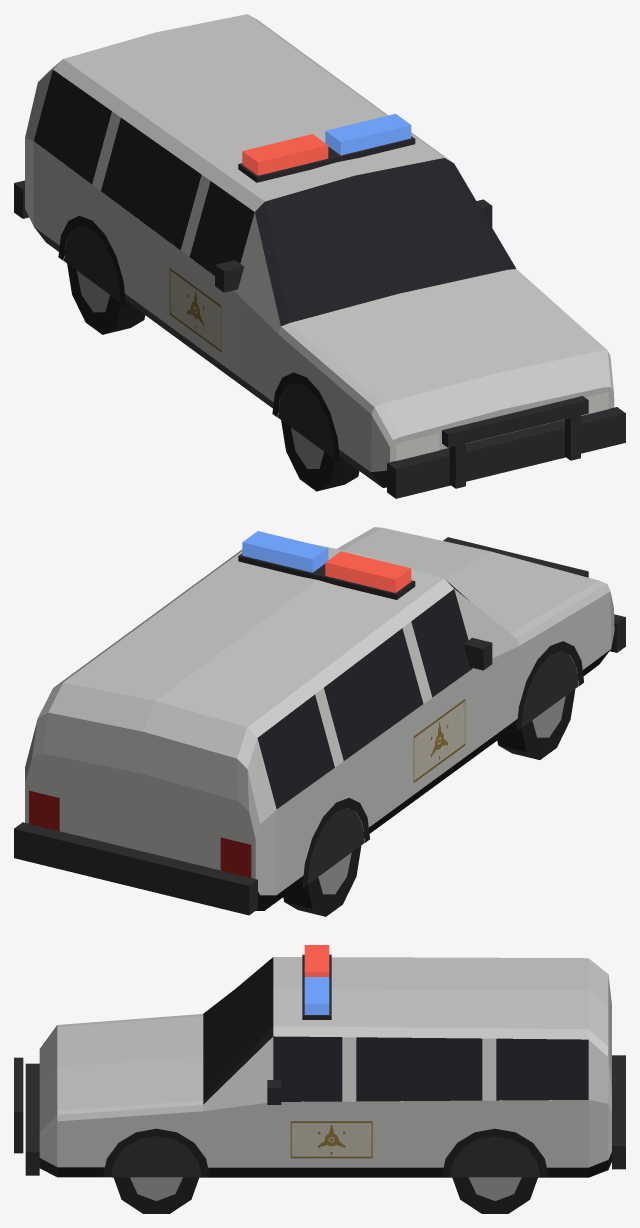
File: town_cruiser.gltf
The picture shows the model from 3 angles, top to bottom: view 1: azimuth 30°, elevation 25°; view 2: azimuth 150°, elevation 25°; view 3: azimuth 270°, elevation 25°; orthographic projection. The views are drawn at different scales.
Visible parts, largest first — view 1: TownCruiser_Body, TownCruiser_Glass, TownCruiser_Bumpers, TownCruiser_Arches, TownCruiser_LightBar_Glow, TownCruiser_PushBar, TownCruiser_Tyres, TownCruiser_Badge, TownCruiser_Lower, TownCruiser_Rims, TownCruiser_LightBar, TownCruiser_Headlights (+1 smaller); view 2: TownCruiser_Body, TownCruiser_Glass, TownCruiser_Bumpers, TownCruiser_Arches, TownCruiser_LightBar_Glow, TownCruiser_Tyres, TownCruiser_Badge, TownCruiser_Taillights, TownCruiser_Lower, TownCruiser_Rims, TownCruiser_LightBar, TownCruiser_PushBar (+1 smaller); view 3: TownCruiser_Body, TownCruiser_Glass, TownCruiser_Arches, TownCruiser_Lower, TownCruiser_Bumpers, TownCruiser_Tyres, TownCruiser_Badge, TownCruiser_Rims, TownCruiser_LightBar_Glow, TownCruiser_PushBar, TownCruiser_LightBar.
Boxes of the visible parts, bbox=[...] form: TownCruiser_Body: bbox=[25, 14, 614, 471]; TownCruiser_Glass: bbox=[34, 70, 516, 326]; TownCruiser_Bumpers: bbox=[14, 180, 625, 498]; TownCruiser_Arches: bbox=[58, 215, 340, 463]; TownCruiser_LightBar_Glow: bbox=[242, 113, 411, 175]; TownCruiser_PushBar: bbox=[442, 396, 588, 488]; TownCruiser_Tyres: bbox=[67, 263, 359, 491]; TownCruiser_Badge: bbox=[169, 268, 221, 351]; TownCruiser_Lower: bbox=[34, 227, 386, 487]; TownCruiser_Rims: bbox=[77, 271, 323, 468]; TownCruiser_LightBar: bbox=[238, 136, 415, 182]; TownCruiser_Headlights: bbox=[396, 392, 608, 460]; TownCruiser_Body: bbox=[25, 527, 614, 895]; TownCruiser_Glass: bbox=[257, 579, 472, 808]; TownCruiser_Bumpers: bbox=[14, 614, 625, 915]; TownCruiser_Arches: bbox=[302, 641, 583, 888]; TownCruiser_LightBar_Glow: bbox=[242, 531, 411, 592]; TownCruiser_Tyres: bbox=[283, 689, 575, 916]; TownCruiser_Badge: bbox=[413, 699, 465, 782]; TownCruiser_Taillights: bbox=[29, 790, 251, 877]; TownCruiser_Lower: bbox=[256, 649, 610, 910]; TownCruiser_Rims: bbox=[318, 696, 565, 894]; TownCruiser_LightBar: bbox=[238, 553, 415, 599]; TownCruiser_PushBar: bbox=[443, 537, 588, 577]; TownCruiser_Body: bbox=[39, 957, 611, 1167]; TownCruiser_Glass: bbox=[203, 957, 588, 1104]; TownCruiser_Arches: bbox=[103, 1128, 548, 1177]; TownCruiser_Lower: bbox=[39, 1152, 611, 1177]; TownCruiser_Bumpers: bbox=[25, 1055, 625, 1175]; TownCruiser_Tyres: bbox=[113, 1177, 537, 1213]; TownCruiser_Badge: bbox=[290, 1121, 372, 1158]; TownCruiser_Rims: bbox=[130, 1177, 521, 1200]; TownCruiser_LightBar_Glow: bbox=[304, 945, 329, 1014]; TownCruiser_PushBar: bbox=[14, 1057, 23, 1153]; TownCruiser_LightBar: bbox=[302, 954, 331, 1019].
Size of what is drawn, in the model's own units: 2.1 by 1.82 by 5.24.
2 materials, 2 textured.
